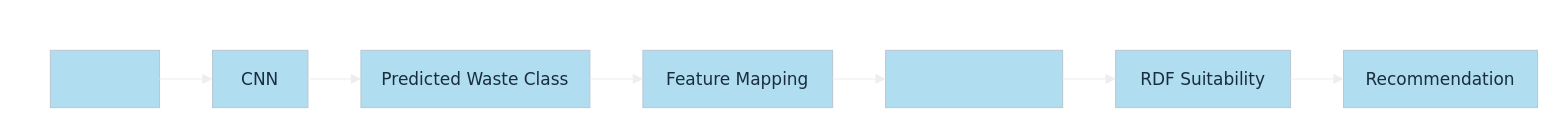
This 1556x126 diagram has some shape labels left out. Here are the shapes that lost their labels. From the top down, the centre of each, then its label:
At pixel 104 78: "Image".
At pixel 974 78: "Random Forest".
